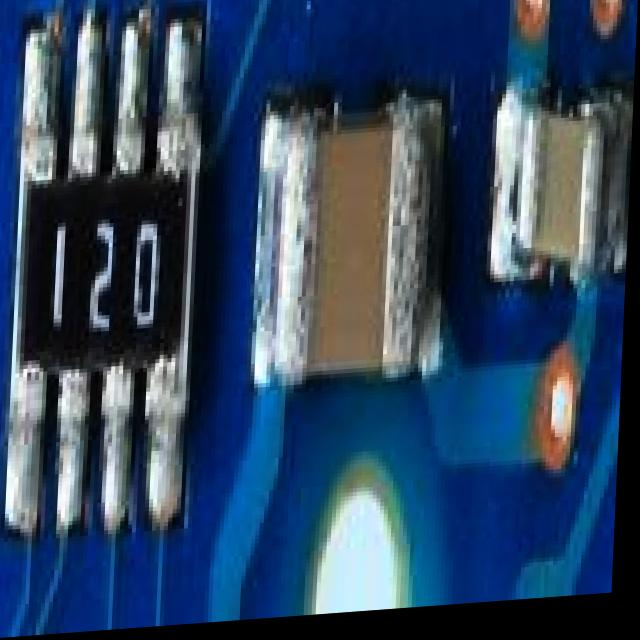capacitor: (271, 74, 445, 407), (509, 112, 611, 290)
resistor: (28, 83, 217, 469)
